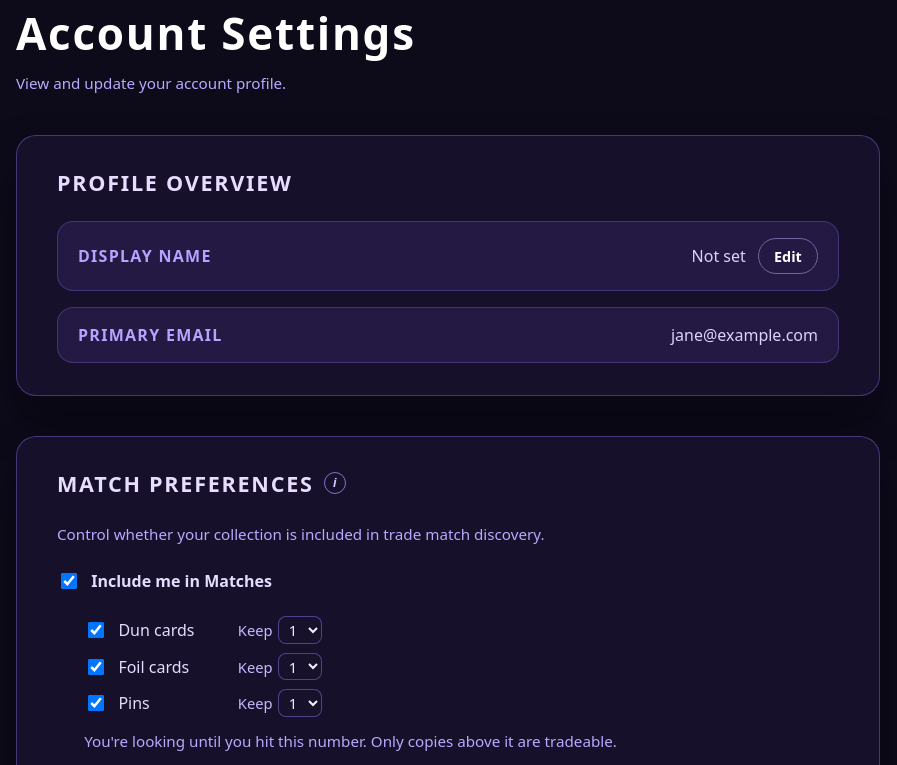
Test: AccountPage › lets a user set a display name when none is stored
Expected: the text "Not set" is shown, x1=692 y1=245 x2=746 y2=267
Click the button "Edit".
click(788, 256)  # box x1=758 y1=238 x2=818 y2=274
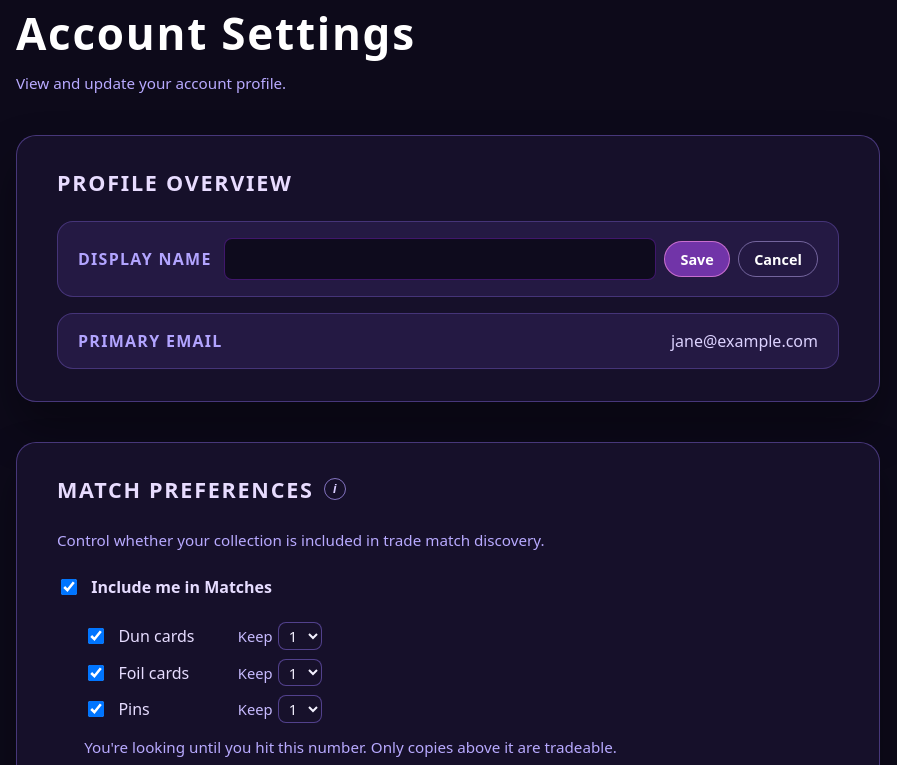
Type "Collector" into the field labelled "Display name".
click(440, 259); type("Collector")  # box x1=224 y1=238 x2=656 y2=280
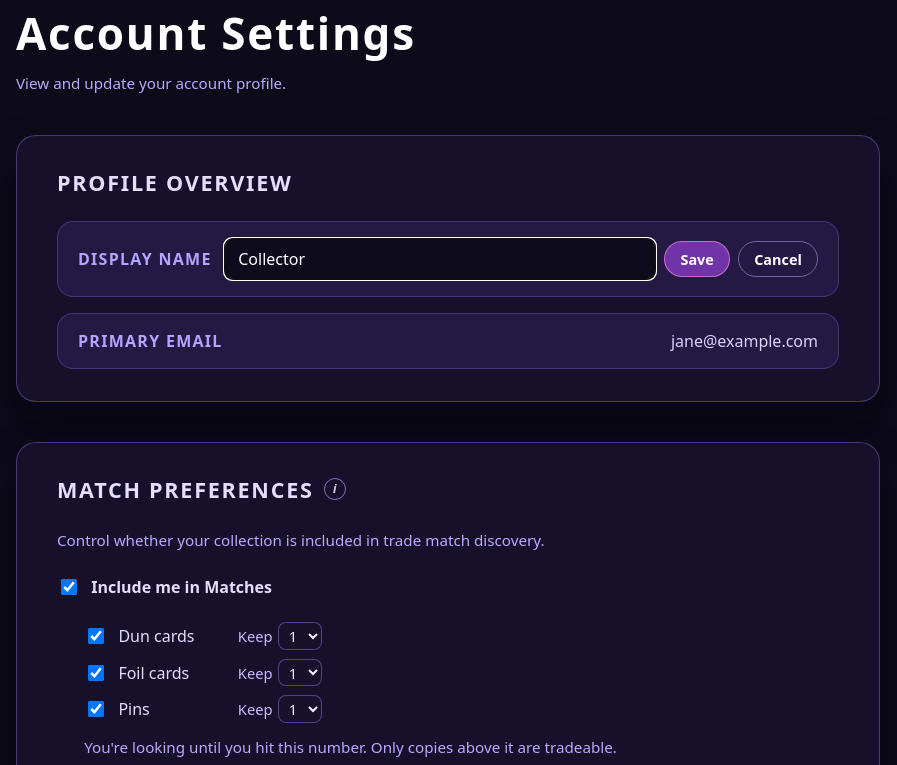
Click the button "Save".
click(697, 259)  # box x1=664 y1=241 x2=730 y2=277
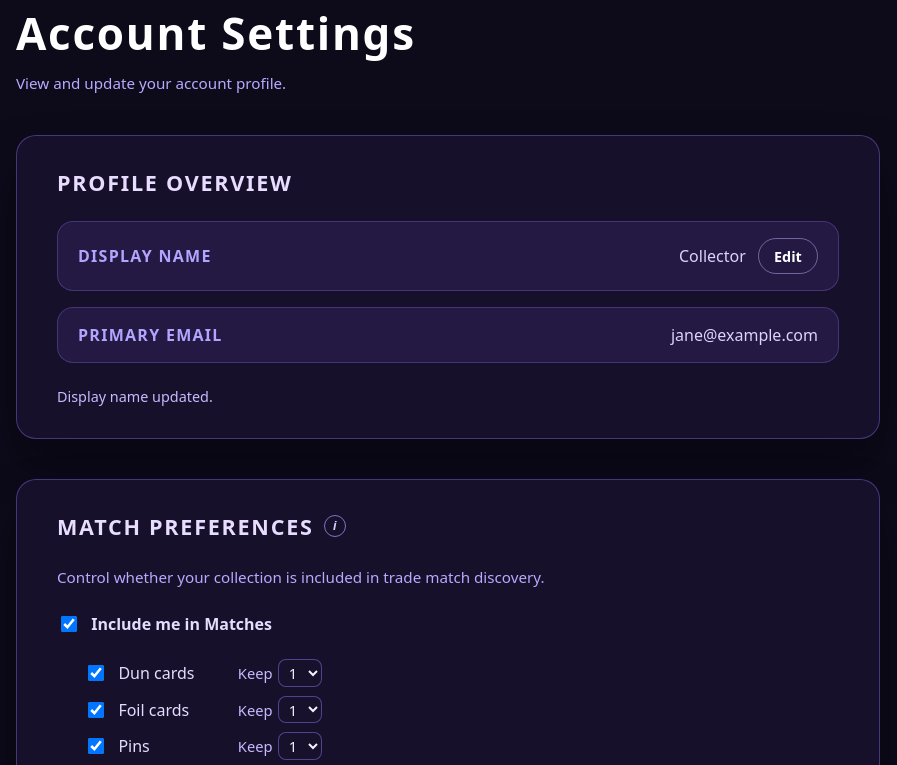
Expected: the text "Collector" is shown, x1=679 y1=245 x2=746 y2=267
Expected: the text "Display name updated." is shown, x1=57 y1=387 x2=213 y2=406
